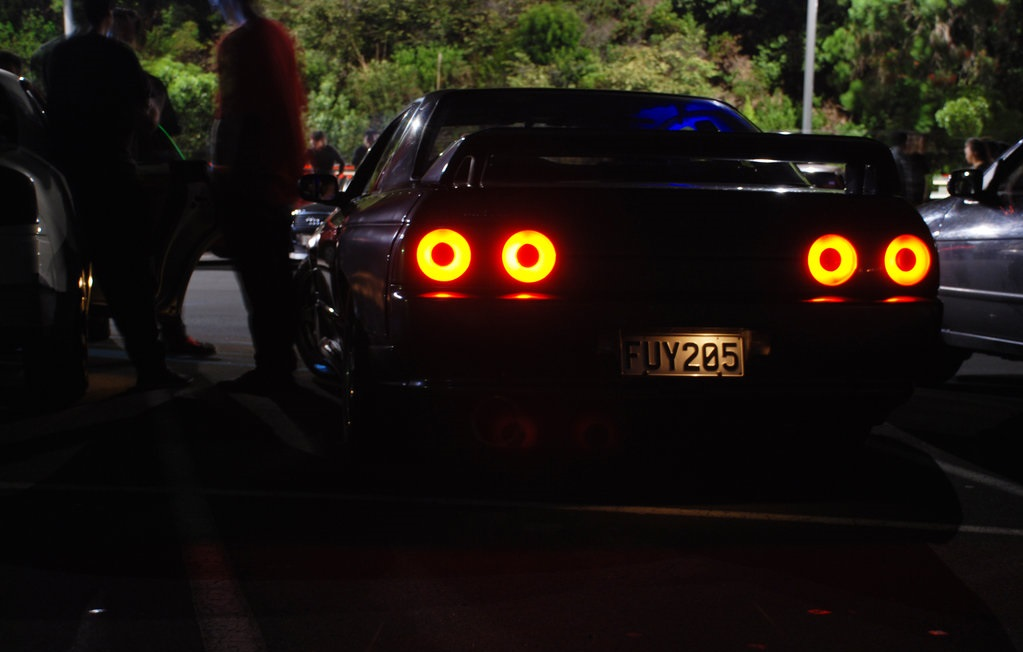car: (281, 71, 971, 486)
